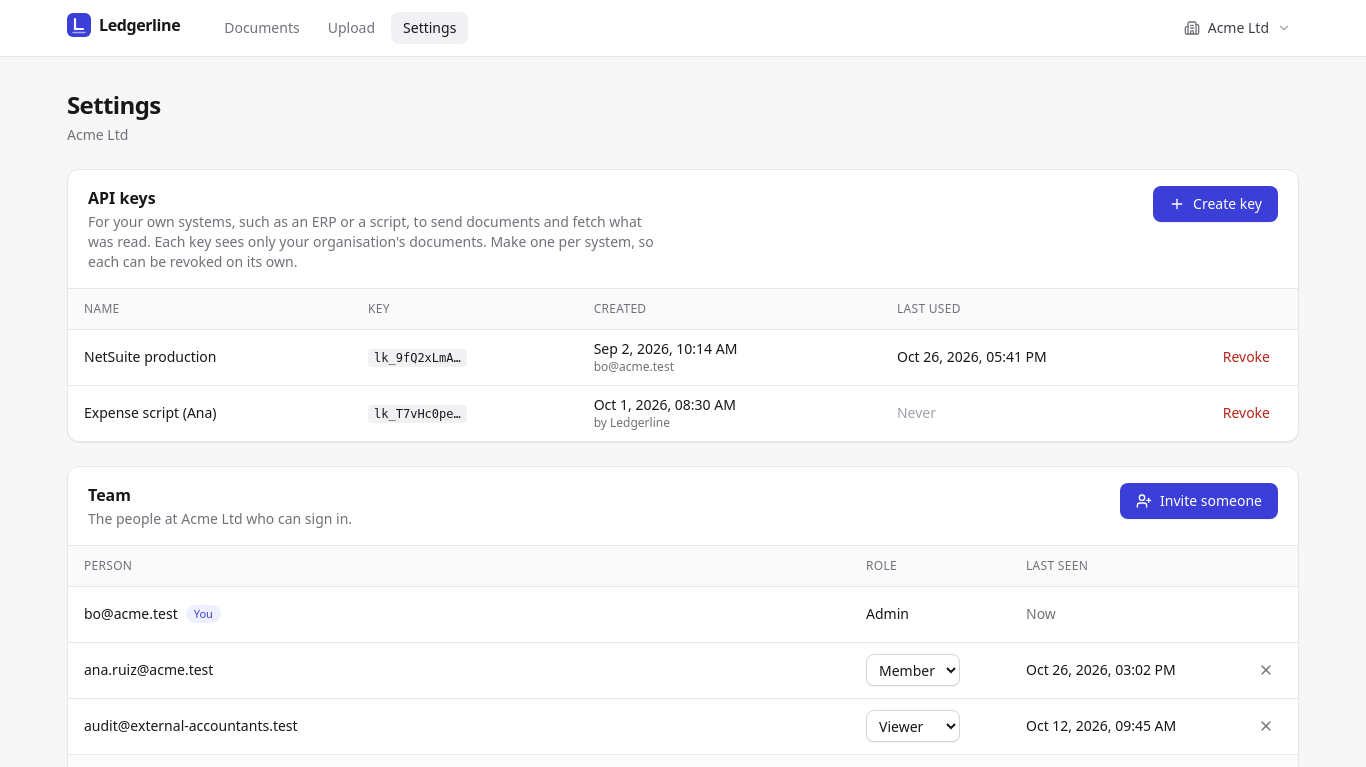
Test: the team › says why when someone is already in the team
This screenshot has width=1366, height=767.
Click the button "Invite someone": {"x": 1199, "y": 501} x1=1120 y1=483 x2=1278 y2=519
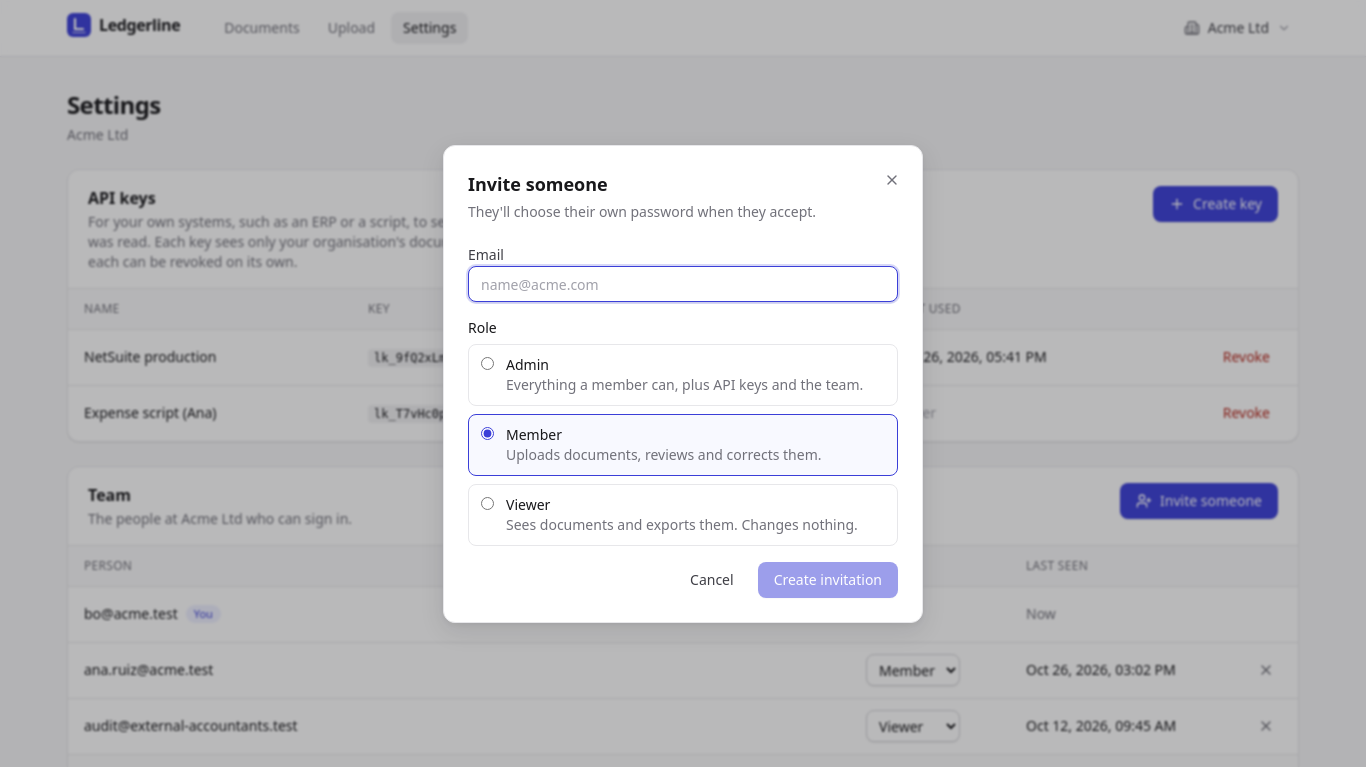
In the field labelled "Email": {"x": 683, "y": 284} x1=468 y1=266 x2=898 y2=302, type "ana.ruiz@acme.test"
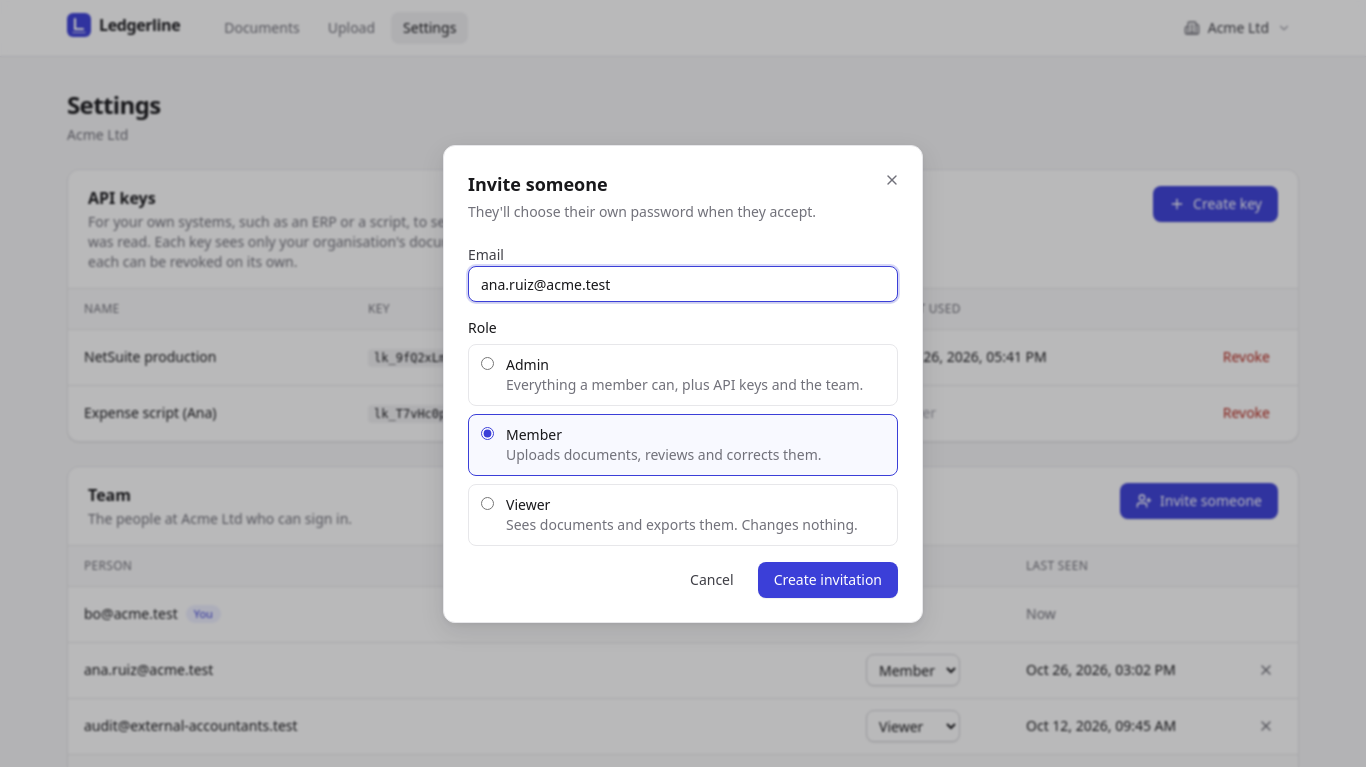
Click the button "Create invitation": {"x": 828, "y": 580} x1=758 y1=562 x2=898 y2=598
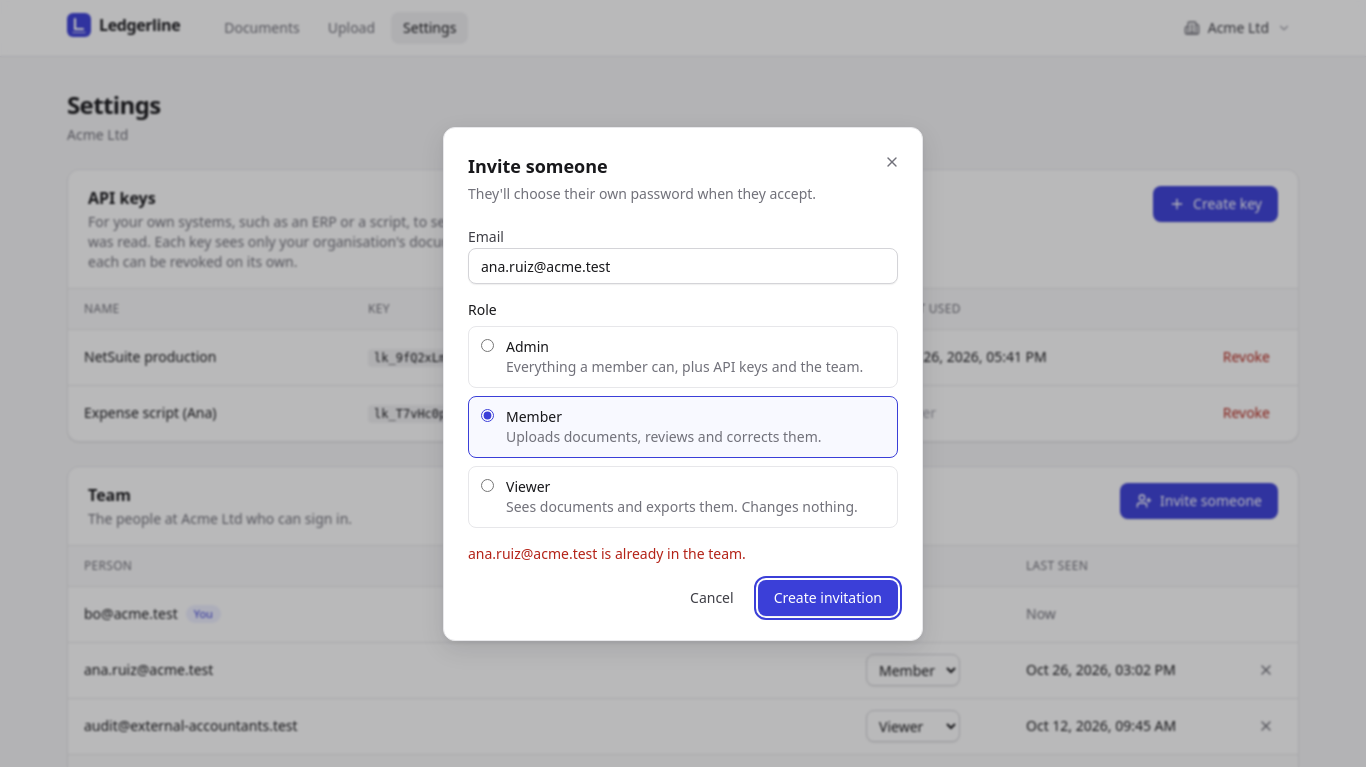
Now the message reads "ana.ruiz@acme.test is already in the team.", box x1=468 y1=544 x2=746 y2=563
